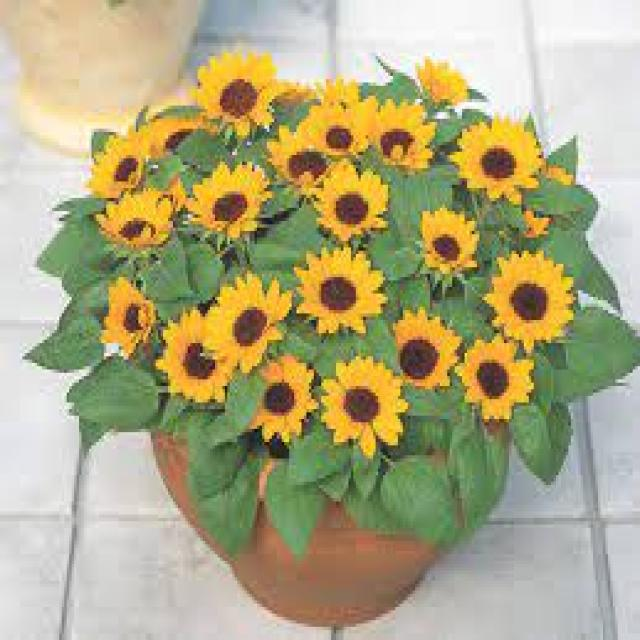sunflower: (310, 345, 423, 462), (445, 97, 548, 213), (474, 246, 589, 348), (284, 237, 386, 349), (193, 272, 298, 380), (182, 157, 286, 256), (221, 344, 323, 444), (454, 326, 550, 429), (190, 37, 284, 140), (302, 154, 407, 246), (381, 297, 465, 402), (120, 105, 248, 173), (81, 122, 168, 202), (363, 93, 439, 183), (95, 272, 162, 371), (262, 117, 342, 192), (407, 206, 483, 283), (296, 101, 382, 163), (407, 54, 480, 111), (500, 204, 571, 252), (301, 70, 372, 112), (260, 64, 313, 115), (526, 151, 583, 192), (147, 178, 189, 214)
